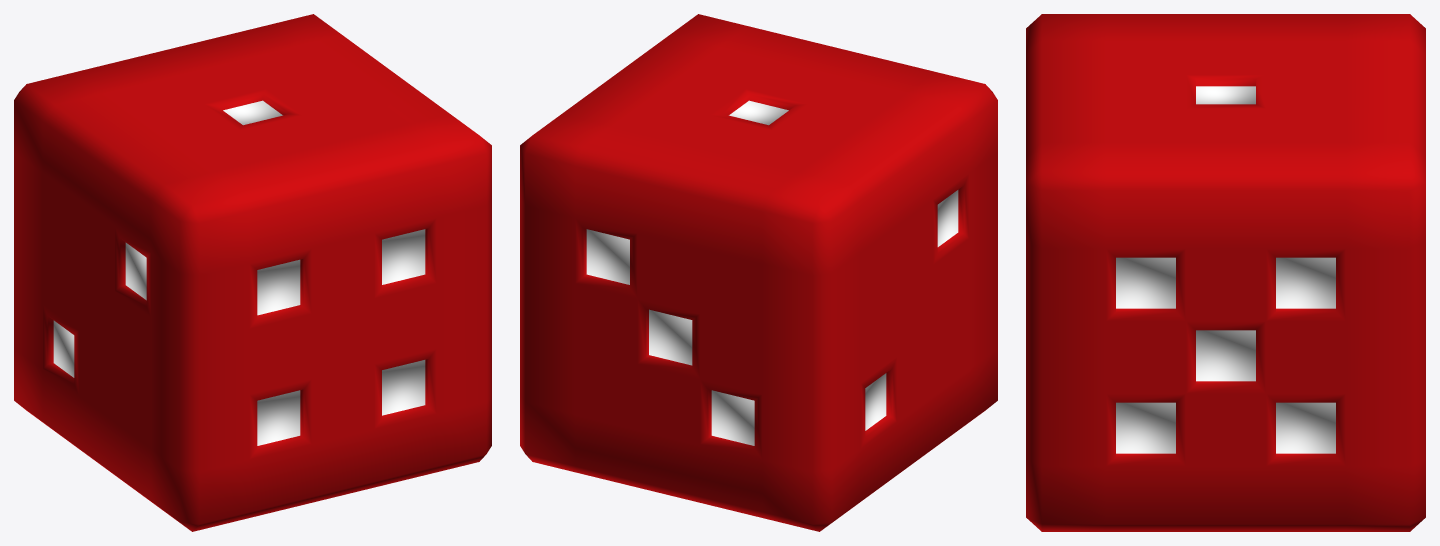
The model's file is 124f1cbb-cd36-46f2-a92d-8a8b256da57b.glb.
The picture shows the model from 3 angles, left to right: view 1: azimuth 30°, elevation 25°; view 2: azimuth 150°, elevation 25°; view 3: azimuth 270°, elevation 25°; orthographic projection. The views are drawn at different scales.
Visible parts, largest first — view 1: Dice; view 2: Dice; view 3: Dice.
Boxes of the visible parts, x1,y1,x2,y2 form: Dice: (14,14,491,531); Dice: (520,14,997,531); Dice: (1026,14,1425,531).
Size of the model in its own units: 0.0375 by 0.0375 by 0.0375.
Materials: 1 (1 with a texture image).
